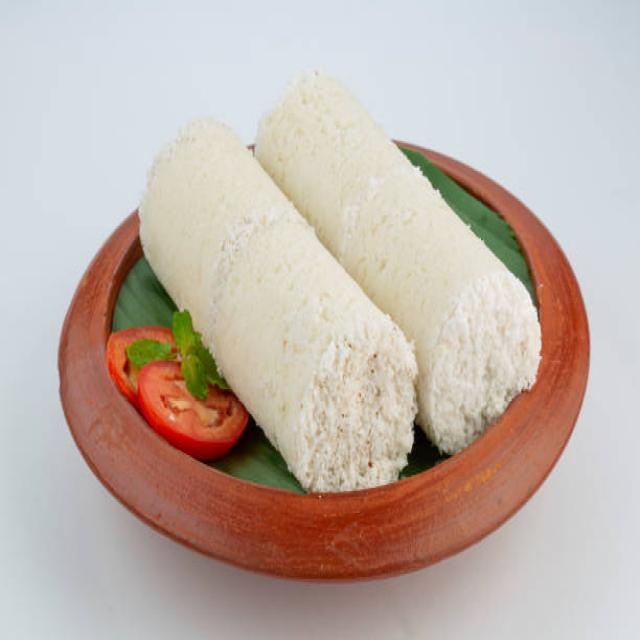PUTTU: (138, 69, 542, 493)
